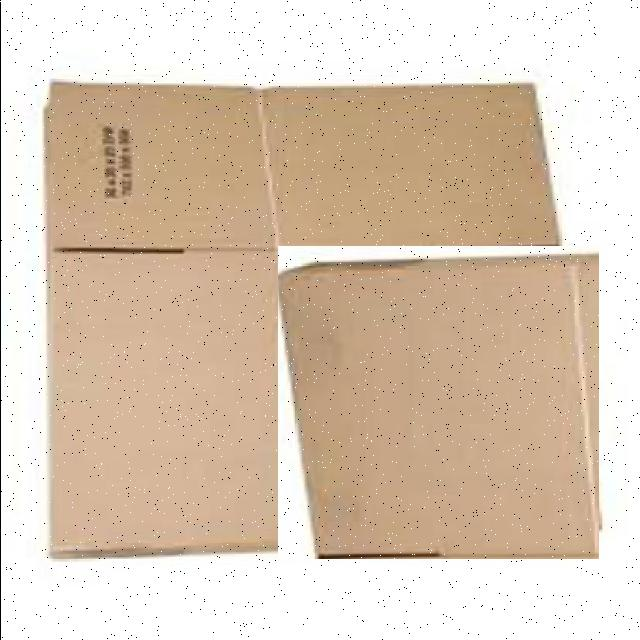normal: (277, 246, 598, 559)
